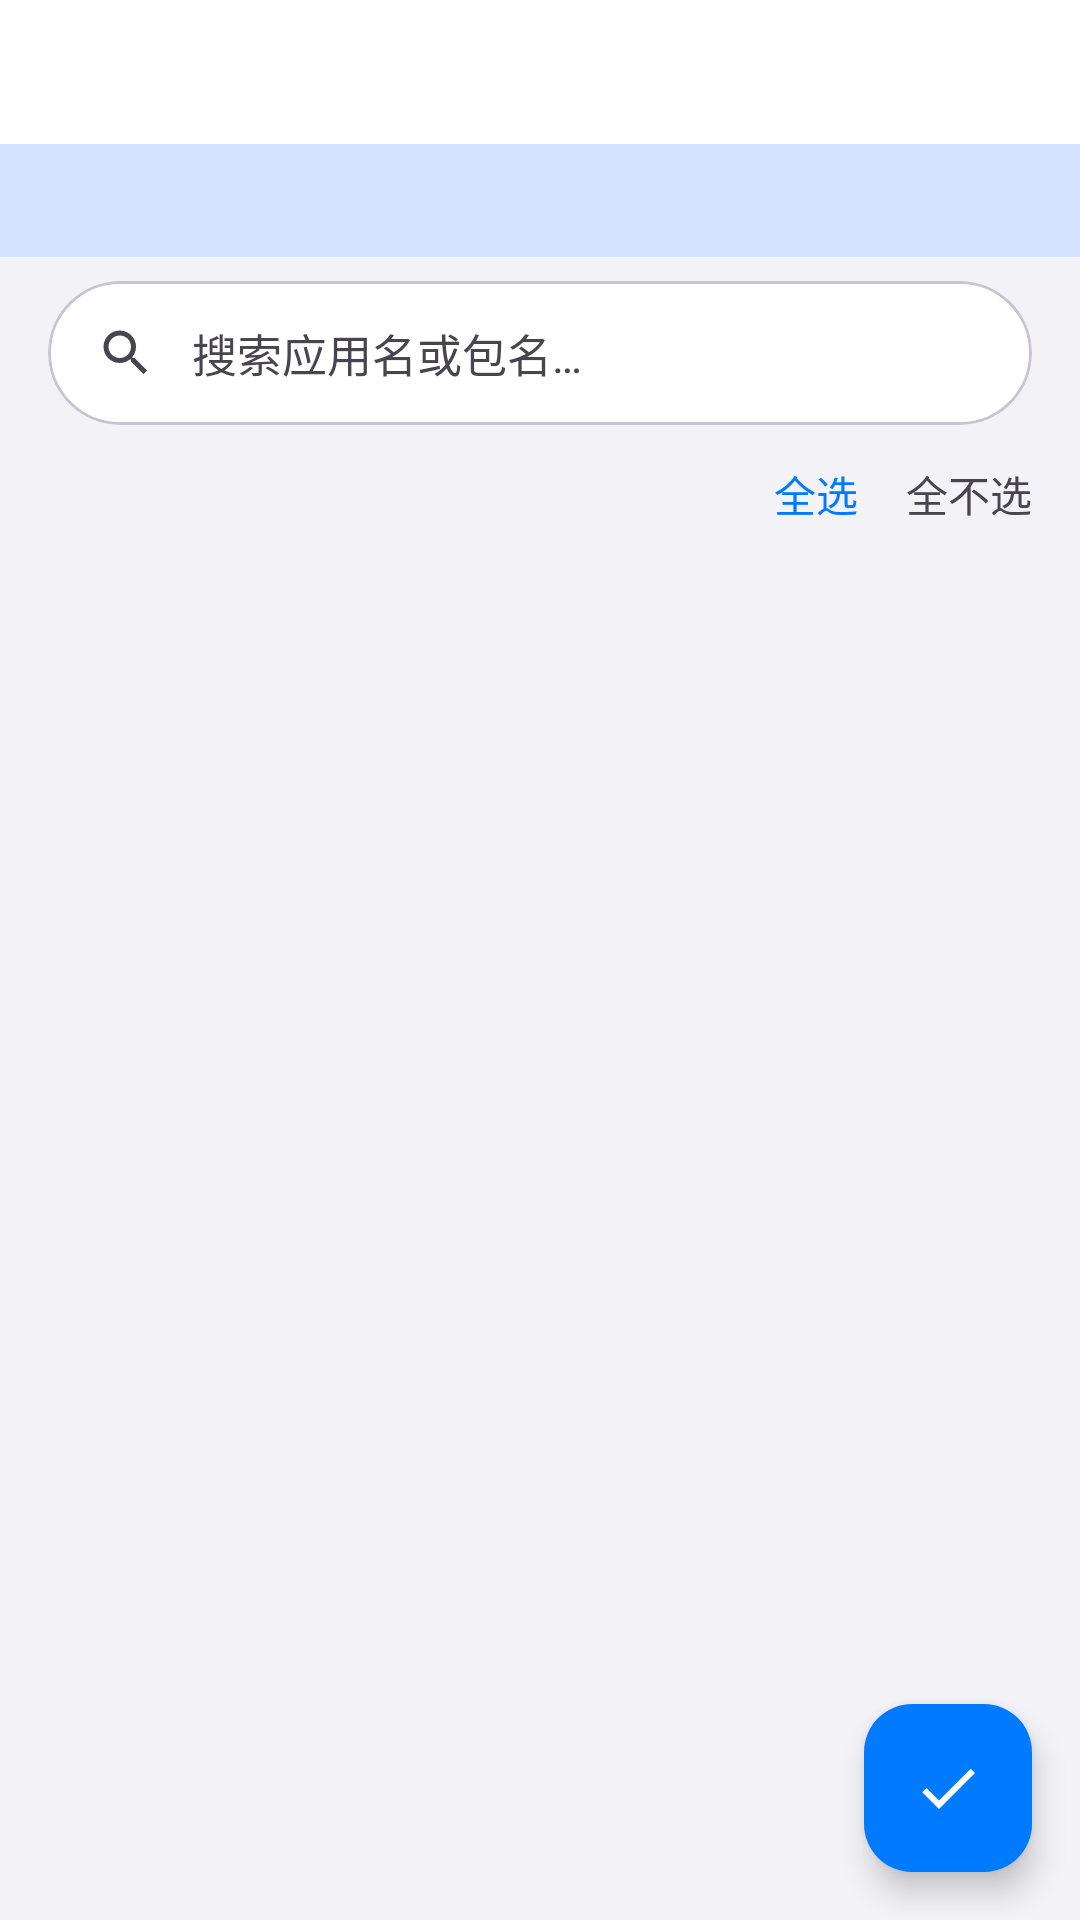

Screen size 1080w x 1920h. Icon name, then its center in pixels as point (x, y):
search: point (125, 352)
保存配置: point (948, 1788)
